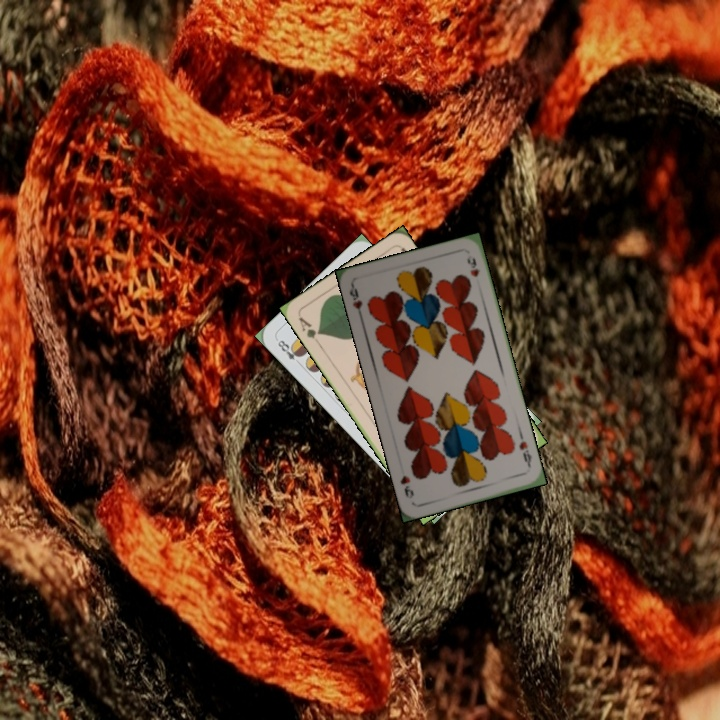E8: (273, 335, 304, 368)
GA: (294, 312, 324, 348)
H9: (345, 281, 365, 322), (515, 431, 535, 471)
